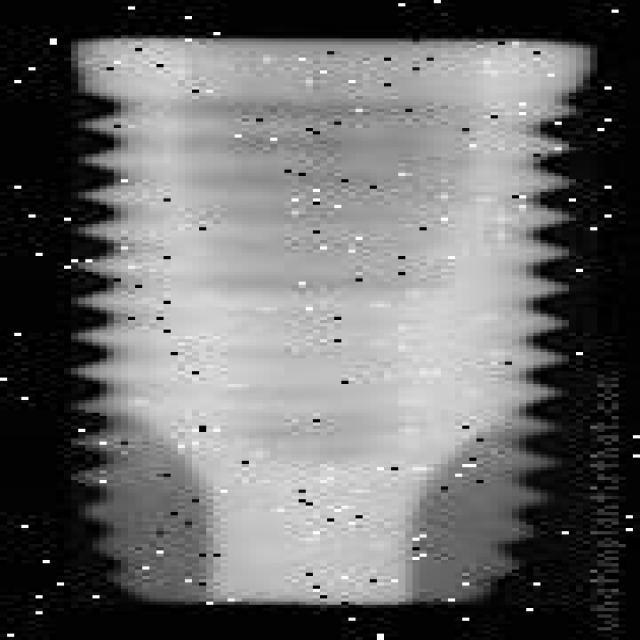Retained root: (71, 38, 597, 605)
